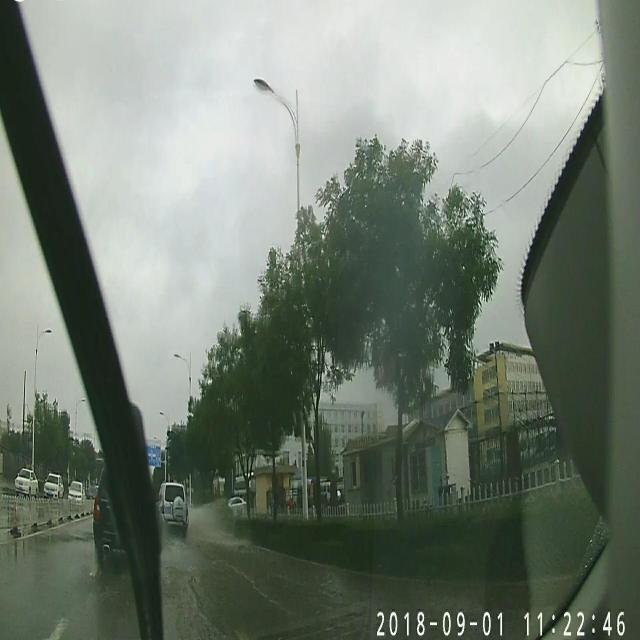car: (91, 454, 155, 558), (157, 481, 190, 532), (14, 467, 38, 499), (42, 472, 64, 503), (68, 479, 86, 513), (226, 496, 248, 514)
